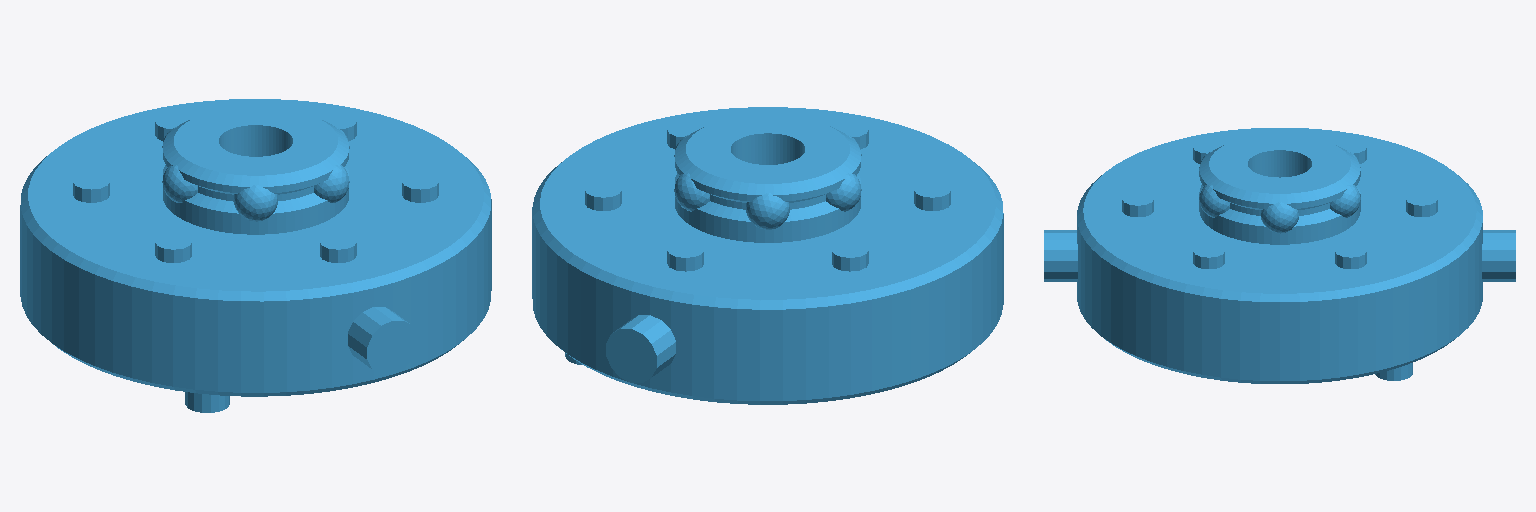
The robot description file, URDF, robot "tool_changer_a1_master":
<?xml version="1.0"?>
<!--
  Tool Changer A1 — マスタ側 (ロボット側): 空圧ロボットツールチェンジャの自作アセット
  (CC0-1.0)。tool-changer-a1-tool.urdf と対で使う。

  ============================================================================
  参照実機: **SCHUNK SWS-011** (SWK-011-000-000 マスタ + SWA-011-000-000 アダプタ)
    https://schunk.com/us/en/automation-technology/tool-changer/sws/swk-011-000-000/p/000000000000302316
    https://schunk.com/us/en/automation-technology/tool-changer/sws/swa-011-000-000/p/000000000000302317
  ============================================================================

  **これは SWS-011 の複製ではない。** 外観 (ボス径・ポート配置・ボール数・面取り・
  レース形状) はすべて独自著作で、参照実機からは**公表されている数値だけ**を採っている。

  参照実機から採った値 (SCHUNK 公式製品ページの技術データ):
    - 板厚 **マスタ 15.5 mm / アダプタ 20.6 mm** (結合時 36.1 mm)
      → **マスタの方が薄い**のが実機の姿。直感に反するので特記しておく
    - 最大可搬 **16 kg** / ロック力 **1100 N** / 繰返し精度 **0.015 mm**
    - エア通し **6 ポート (6x M5)** / 使用圧 4.5-6.9 bar
    - 許容芯ずれ XY +-1 mm / 角度 +-2 度 (No-Touch 結合の食い付き角の設計根拠)
    - 質量 0.13 kg (マスタ) — 本モデルは後述の外径拡大分だけ割り増し

  参照実機から**意図的に変えた点**:
    - 外径 **ø50 -> ø63**、インタフェースを **ISO 9409-1-50-4-M6** に振り替え。
      SWS-011 は ø50 胴に SCHUNK 独自の "S7" ボルトパターンだが、ø50 の胴には
      ISO 呼び 50 のボルト円 (P.C.D 50) が載らない。**カタログ収録済みの
      UR5e / TM5-900 / 2F-85 / gripper-coupling と直結できること**を優先した。
      ISO 呼び 50 の値 (外径 63 / P.C.D 50 x 4-M6 / 位置決め径 31.5 / ダウエル 6) は
      OMRON i837 (Techman TM5) のフランジ図と一致することを確認済み
    - 質量 0.13 -> **0.15 kg**。外径を広げた分の割り増し (胴の断面積比 (63/50)^2 = 1.59
      をそのまま掛けると 0.21 kg だが、増える分は外周のリング部で中身は変わらないため
      控えめに見積もった)

  なお同クラスの ATI QC-11 も可搬 16 kg / ロック力 1100 N で数値が一致するが、
  **ATI の寸法図は参照していない** — 公開されている Quick-Change マニュアル
  (9610-20-1000) は複製禁止条項付きで、かつ掲載図は中空手首マウント + A15 モジュール版
  (積み高さ 78 mm) と基本形 (52.4 mm) の別構成。SCHUNK を参照実機に選んだのは、
  **公式製品ページに寸法が制限なしで載っている**ため。

  座標系 (botrail カタログ規約): Z-up / メートル。root リンク mount = ロボット
  フランジ接触面 (+Z がツール側)。マスタ側は結合面 `coupling` を上に提示し、
  ツール側プレートがそこへ載る。

  visual: tools/generate_meshes.py が生成する ../meshes/master.stl (手続き的著作)
  collision: URDF プリミティブのみ (板 + カムボス + スピゴット + 側面ポート)。
          ダウエルピンはロボット側フランジの穴に入る消耗形状なので collision に出さない
-->
<robot name="tool_changer_a1_master">

  <link name="mount"/>

  <link name="body">
    <visual>
      <geometry>
        <mesh filename="../meshes/master.stl"/>
      </geometry>
    </visual>

    <collision><!-- main plate, ISO 9409-1 OD ø63 x 15.5 (SWK-011 の板厚) -->
      <origin xyz="0 0 0.00775"/>
      <geometry><cylinder radius="0.0315" length="0.0155"/></geometry>
    </collision>
    <collision><!-- cam boss (enters the tool plate's receiving bore) -->
      <origin xyz="0 0 0.0195"/>
      <geometry><cylinder radius="0.0125" length="0.008"/></geometry>
    </collision>
    <collision><!-- ISO 9409-1 pilot spigot, ø31.5 (seats in the robot flange bore) -->
      <origin xyz="0 0 -0.0025"/>
      <geometry><cylinder radius="0.01575" length="0.005"/></geometry>
    </collision>
    <collision><!-- lock air port boss -->
      <origin xyz="0 0.0325 0.00775" rpy="1.5708 0 0"/>
      <geometry><cylinder radius="0.004" length="0.008"/></geometry>
    </collision>
    <collision><!-- unlock air port boss -->
      <origin xyz="0 -0.0325 0.00775" rpy="1.5708 0 0"/>
      <geometry><cylinder radius="0.004" length="0.008"/></geometry>
    </collision>

    <!-- 質量 0.15 kg (SWK-011 の 0.13 kg + 外径拡大分)。慣性は ø63 x 15.5 の中実円柱近似 -->
    <inertial>
      <origin xyz="0 0 0.00775"/>
      <mass value="0.15"/>
      <inertia ixx="4.021e-5" ixy="0.0" ixz="0.0" iyy="4.021e-5" iyz="0.0" izz="7.442e-5"/>
    </inertial>
  </link>

  <!-- 結合面: ツール側プレートの mount がここに載る (積み高さ 36.1 mm の基準) -->
  <link name="coupling"/>

  <joint name="body_joint" type="fixed">
    <parent link="mount"/>
    <child link="body"/>
  </joint>

  <joint name="coupling_joint" type="fixed">
    <origin xyz="0 0 0.0155"/>
    <parent link="body"/>
    <child link="coupling"/>
  </joint>

</robot>

--- What the picture shows (computed from the rendered views, not written in the file) ---
Views: 3 orthographic renders of the robot side by side, from view 1: azimuth 30°, elevation 25°; view 2: azimuth 150°, elevation 25°; view 3: azimuth 270°, elevation 25°.
Model tool_changer_a1_master with 3 links and 2 joints (2 fixed), rooted at mount, posed every joint at zero.
Links seen in each view (by area): view 1: body; view 2: body; view 3: body.
Link boxes in pixels (x1,y1,x2,y2): body: [20, 99, 491, 412]; body: [532, 107, 1003, 404]; body: [1044, 128, 1515, 383].
Size in the robot's own frame: 0.063 by 0.073 by 0.0285 metres.
Meshes: 1 distinct files referenced, 1 mesh visuals loaded (1 binary STL).
